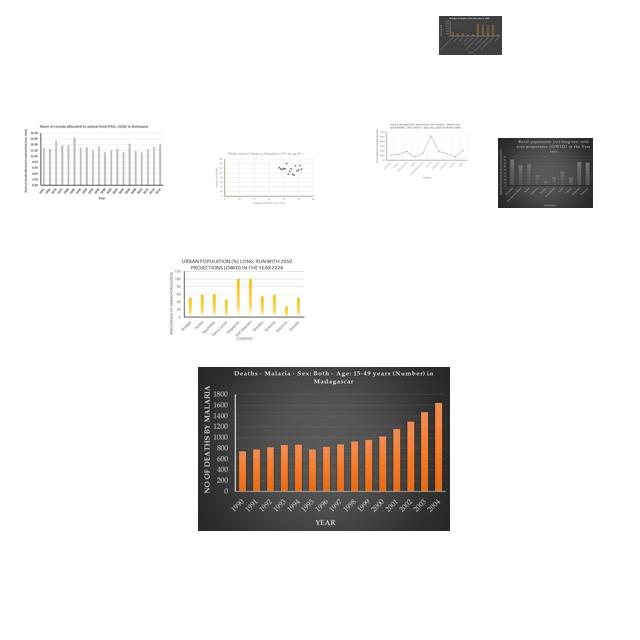Graph: (198, 367, 450, 531), (167, 257, 306, 341), (22, 122, 166, 203), (498, 138, 593, 208), (213, 151, 317, 207), (374, 122, 469, 181), (439, 16, 502, 55)
